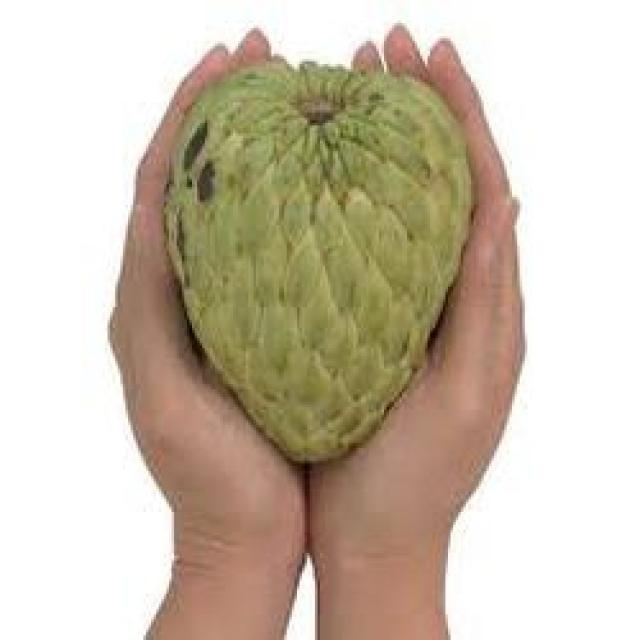apple: (172, 54, 482, 474)
